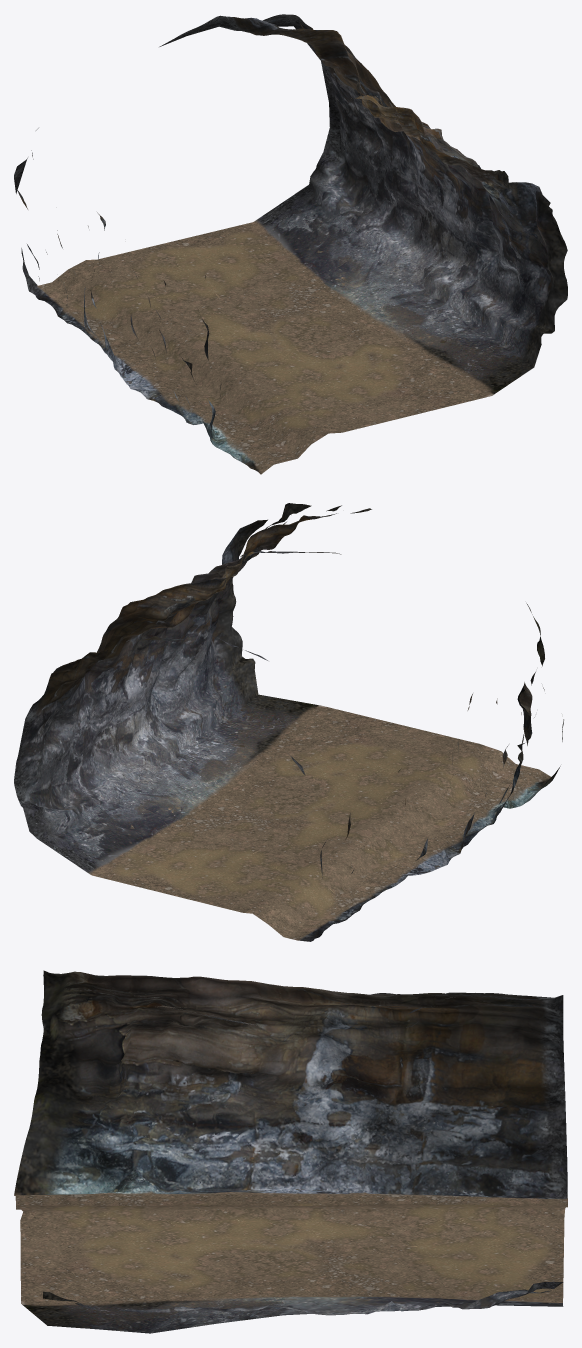
File: TunnelA7.glb
The picture shows the model from 3 angles, top to bottom: view 1: azimuth 30°, elevation 25°; view 2: azimuth 150°, elevation 25°; view 3: azimuth 270°, elevation 25°; orthographic projection. The views are drawn at different scales.
Parts seen in each view (by area): view 1: TunnelA7; view 2: TunnelA7; view 3: TunnelA7.
Part boxes in pixels (bbox=[...]): TunnelA7: bbox=[14, 14, 567, 474]; TunnelA7: bbox=[14, 503, 563, 941]; TunnelA7: bbox=[14, 970, 567, 1333].
Bounding box in the file's own units: 4.77 × 3.19 × 5.53.
1 material, 1 textured.
